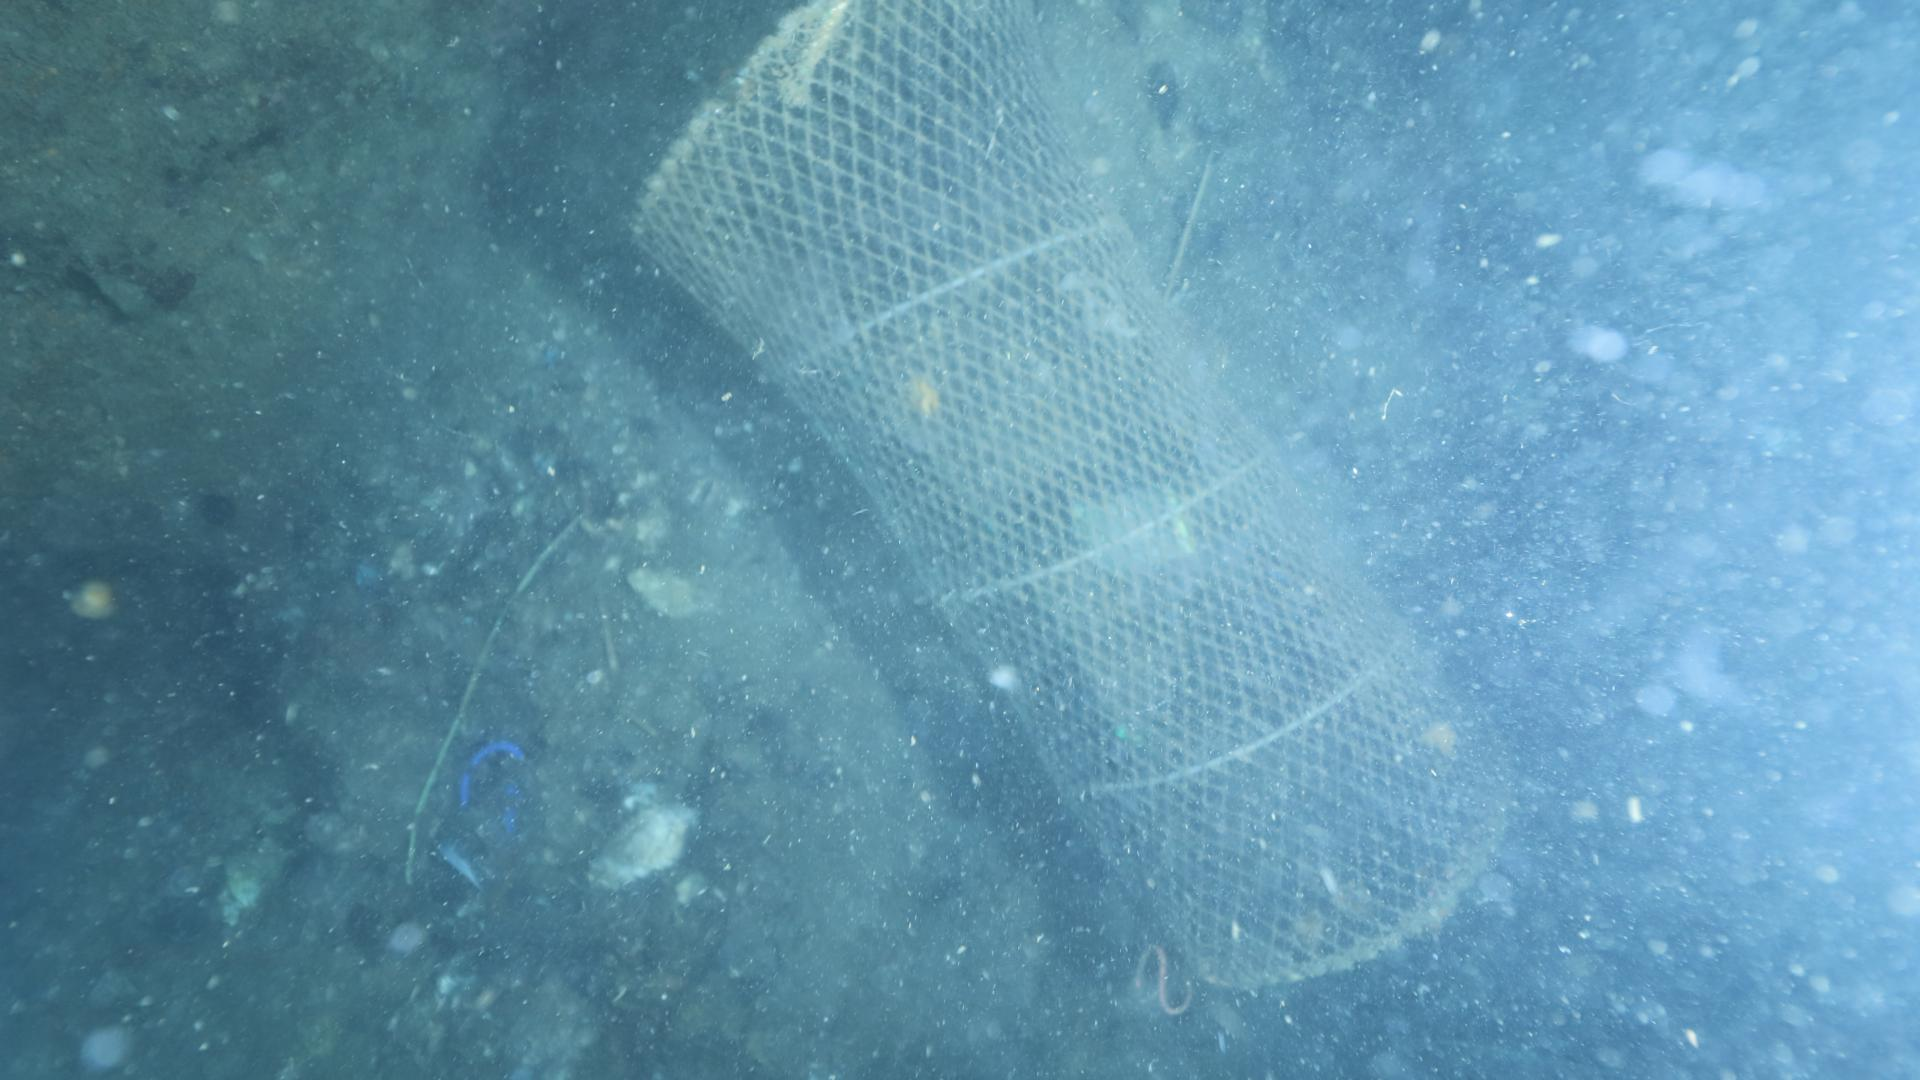spring fish trap: (626, 0, 1528, 996)
